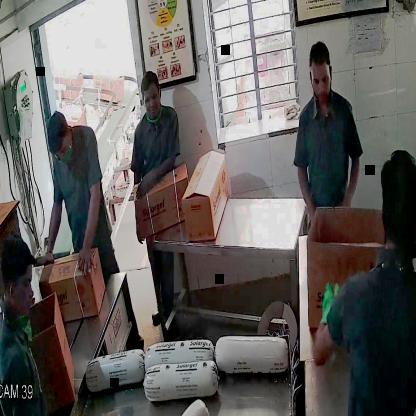no_goggles: (309, 67, 335, 91), (138, 89, 167, 108)
